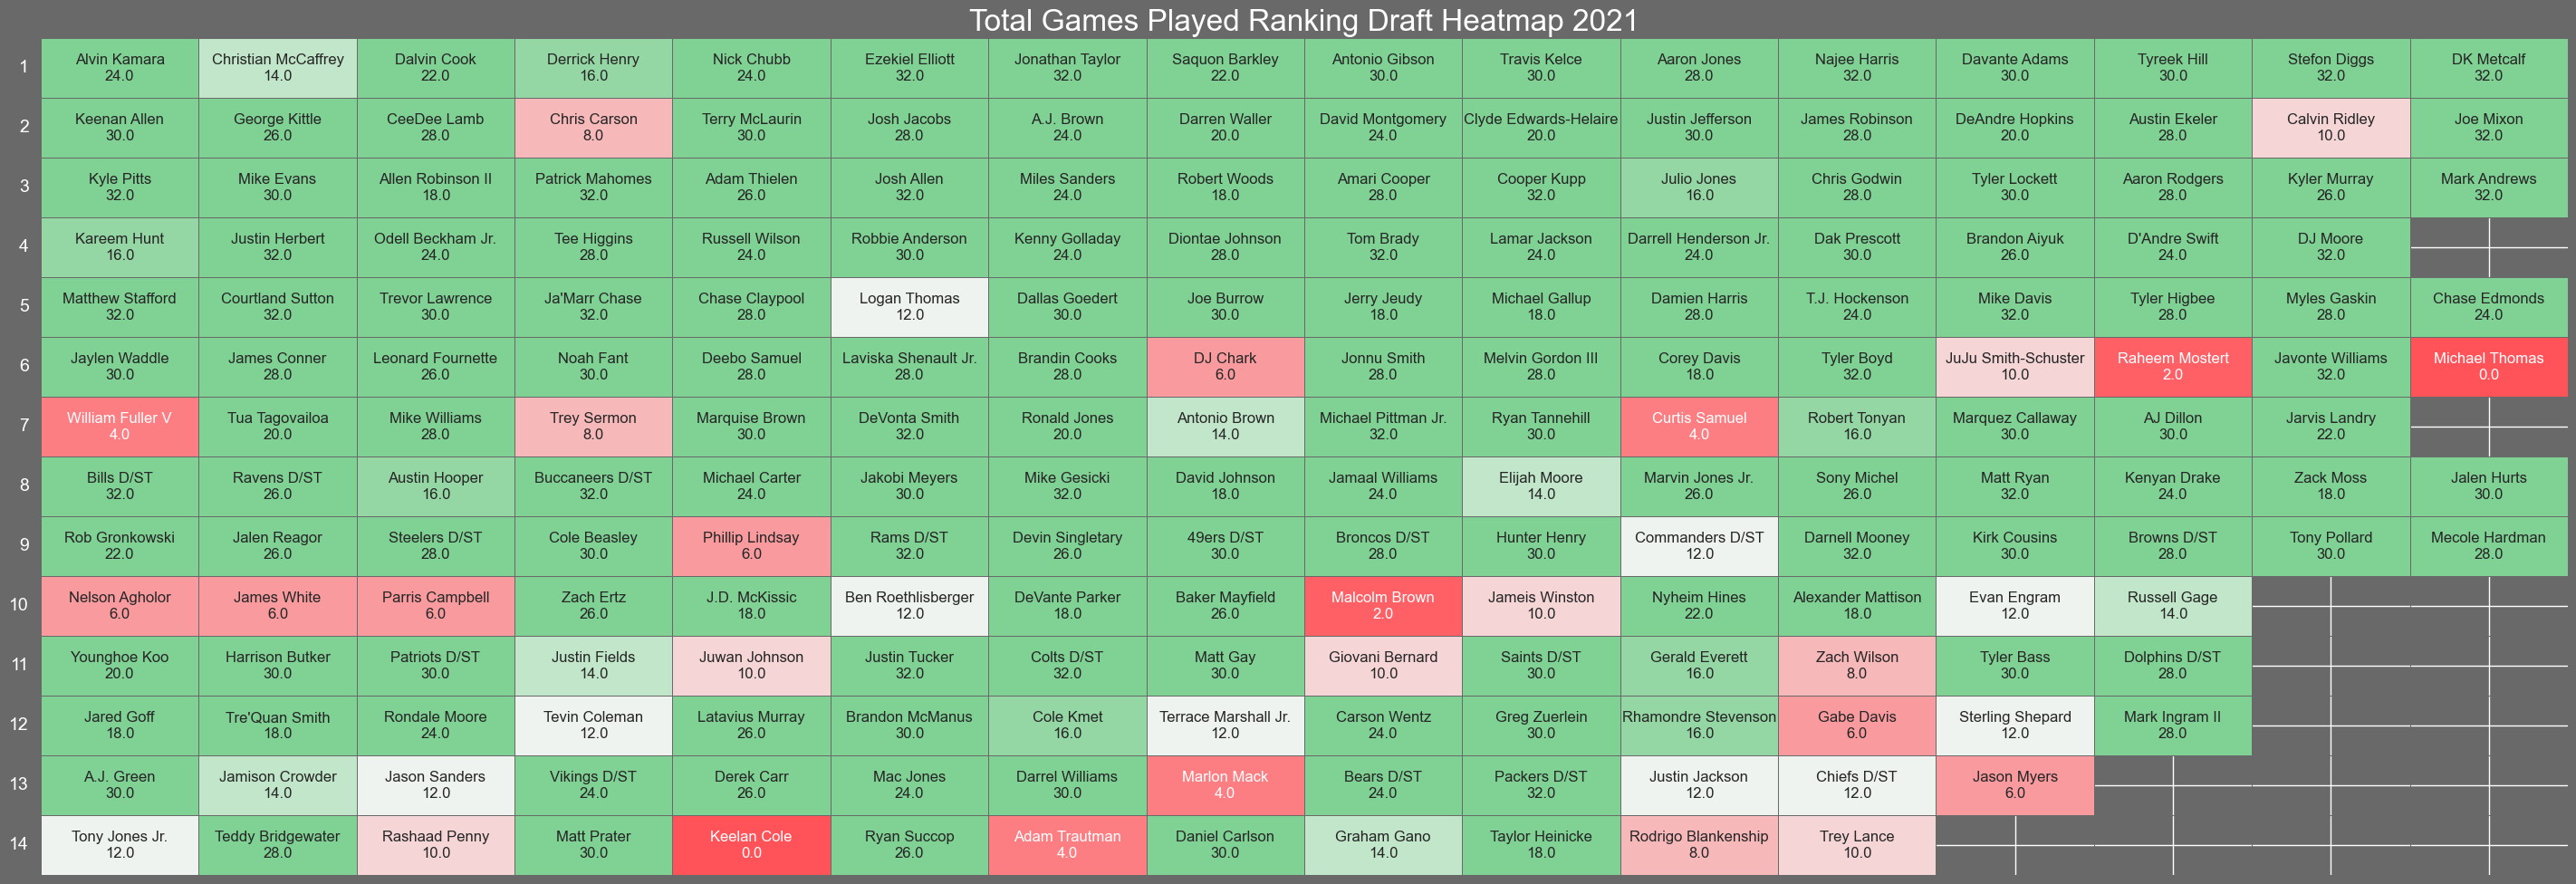

Layout of this report page (visuals, bound fields, positions):
{"tool":"powerbi","page":{"name":"Page 3","canvas":[1280,720],"ordinal":2},"visuals":[{"type":"pivotTable","fields":{"Rows":["Query1.round","Query1.playername"],"Columns":["Query1.pick"],"Values":["Sum(Query1.total)"]},"box":[0,0,1280,720],"z":1}]}

Visuals, with their boxes on the page's 1280x720 design canvas (x1, y1, x2, y2). These are canvas units, not pixel positions in the 2576x884 screenshot, which may show the page scaled, cropped or inside an application window:
pivotTable - Query1.round x Query1.playername: pyautogui.locateOnScreen(0, 0, 1280, 720)
